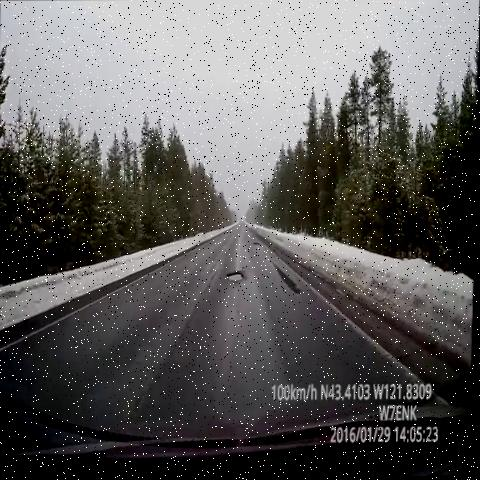pothole: (267, 257, 304, 302), (225, 251, 253, 300), (244, 235, 264, 256)
